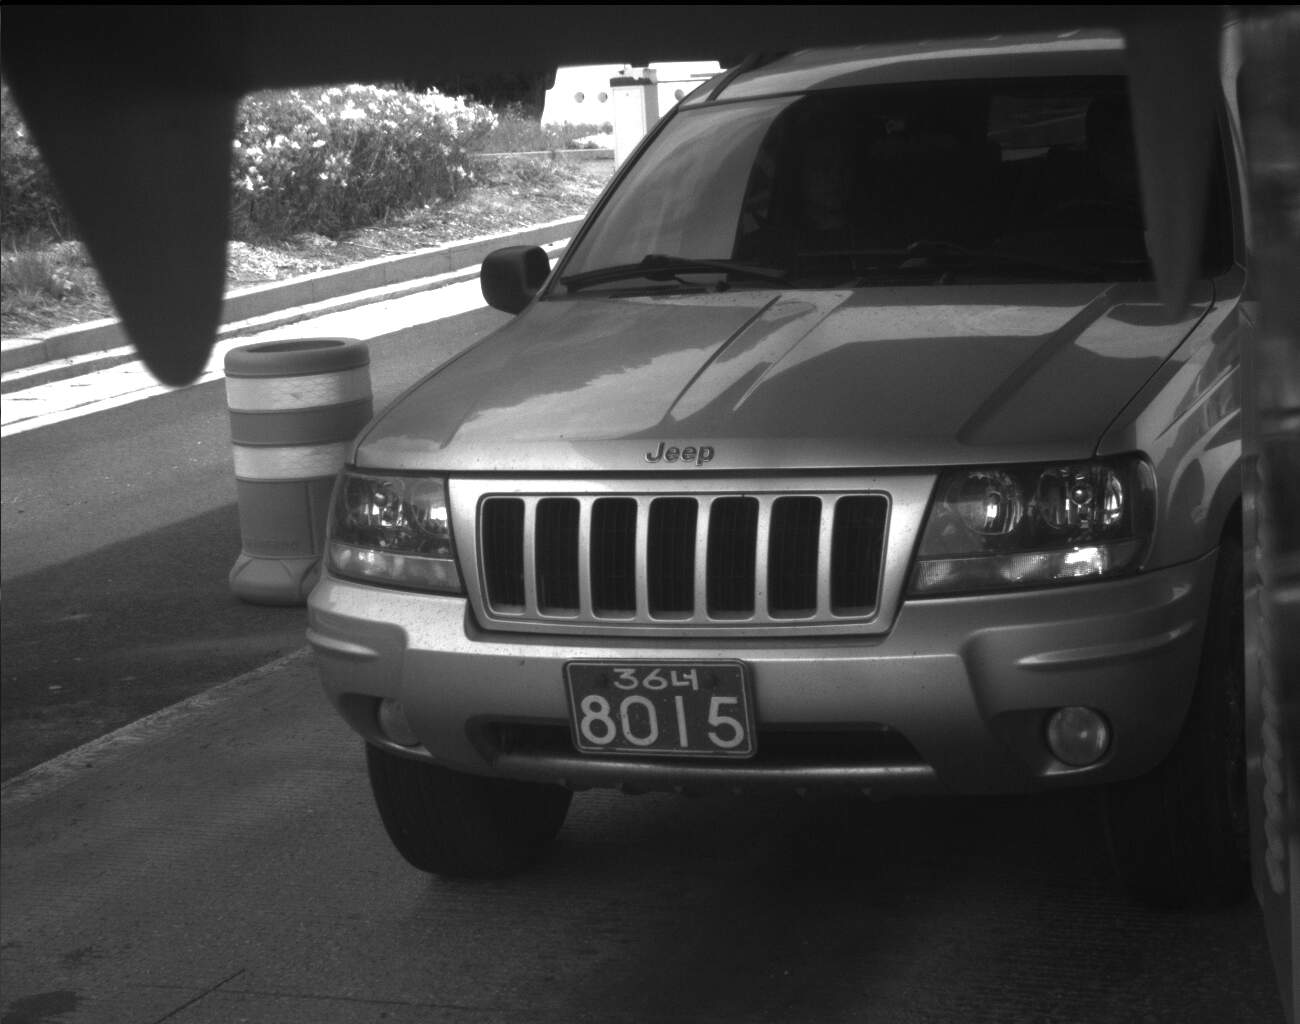car: (303, 25, 1239, 882)
plate: (561, 656, 760, 761)
